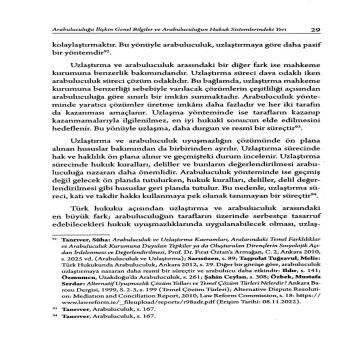footer: (60, 236, 326, 320)
header: (52, 24, 290, 33)
